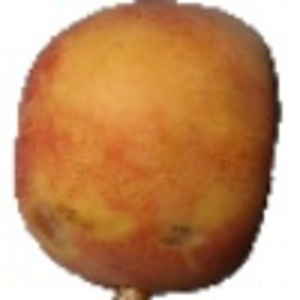pêssego: (2, 1, 284, 300)
